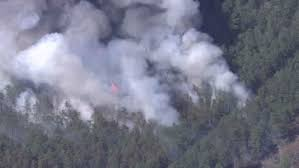yanwu: (1, 1, 252, 129)
